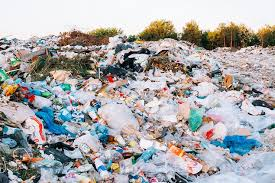garbage: (1, 44, 275, 182)
